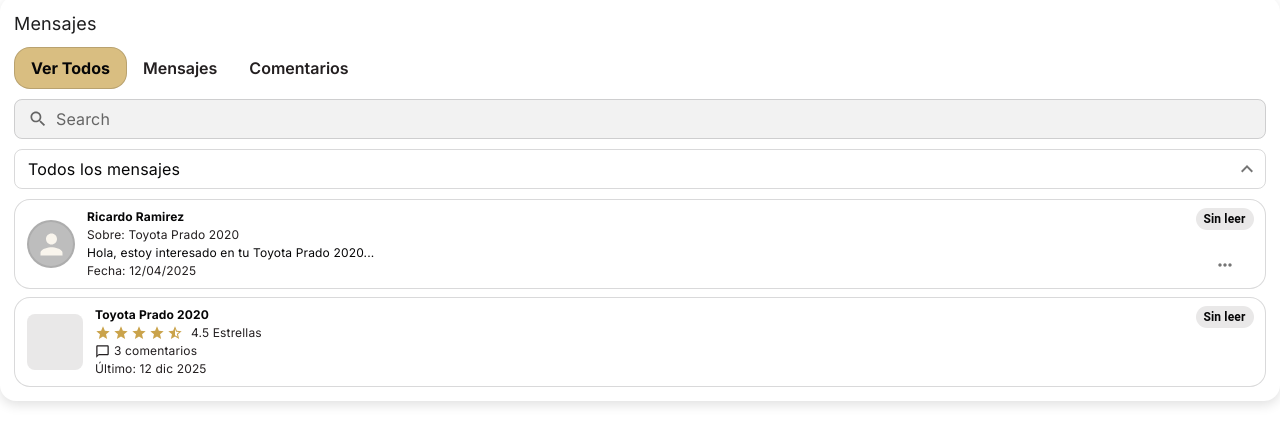
Test: shows messages by default and filters to reviews on the Comentarios tab
Expected: the text "Ricardo Ramirez" is shown, [87,209,184,224]
Click the tab "Comentarios". click: (299, 68)
box: [233,47,365,89]
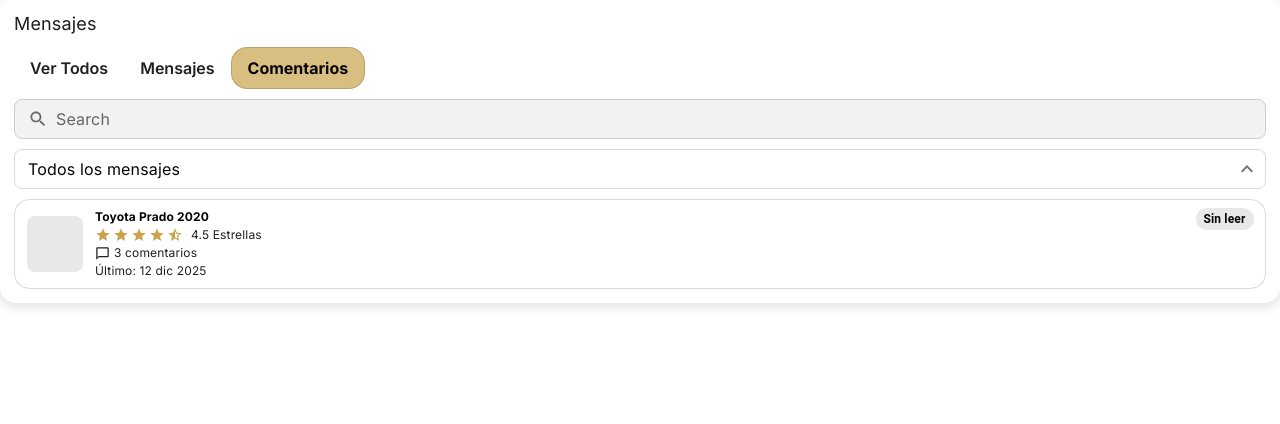
Expected: the text "Toyota Prado 2020" is shown, [95,209,209,224]
Now the text "Ricardo Ramirez" is gone
